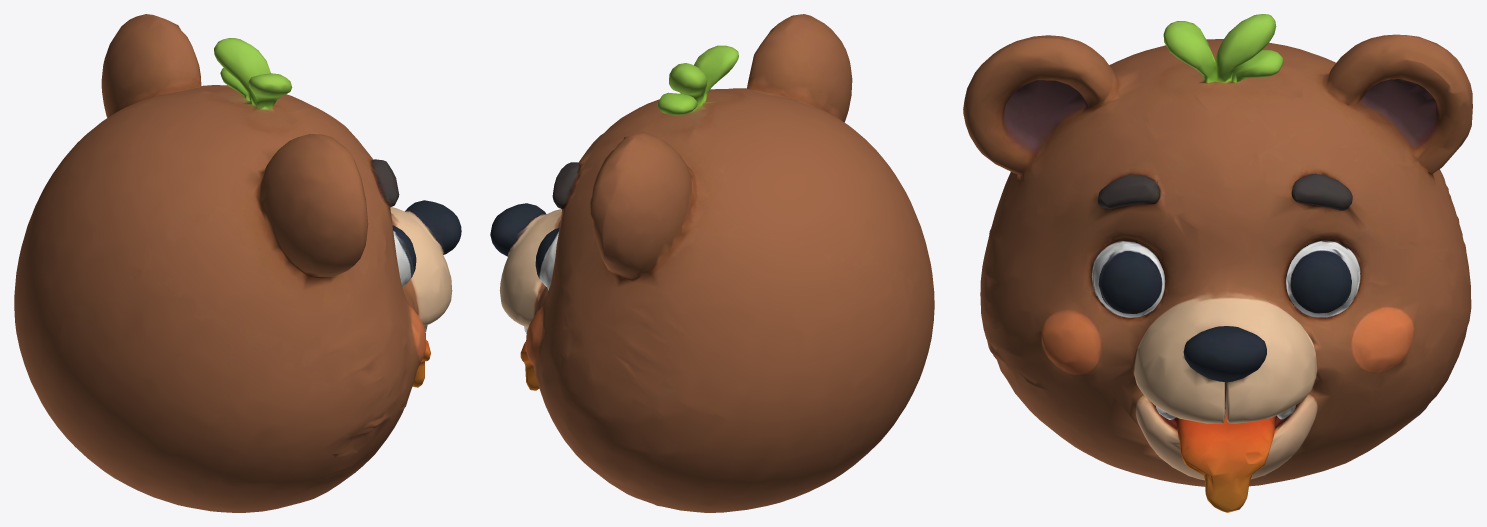
File: head.glb
3 renders of one model, left to right at view 1: azimuth 30°, elevation 25°; view 2: azimuth 150°, elevation 25°; view 3: azimuth 270°, elevation 25°, orthographic. The views are drawn at different scales.
Parts seen in each view (by area): view 1: tripo_node_a42f7980-0482-4e84-95bd-76132f54605c; view 2: tripo_node_a42f7980-0482-4e84-95bd-76132f54605c; view 3: tripo_node_a42f7980-0482-4e84-95bd-76132f54605c.
Boxes of the visible parts, <box> form: tripo_node_a42f7980-0482-4e84-95bd-76132f54605c: <box>14,14,461,512</box>; tripo_node_a42f7980-0482-4e84-95bd-76132f54605c: <box>490,14,934,512</box>; tripo_node_a42f7980-0482-4e84-95bd-76132f54605c: <box>963,14,1472,512</box>.
Bounding box in the file's own units: 0.9953 × 1 × 0.9907.
1 material, 1 textured.
